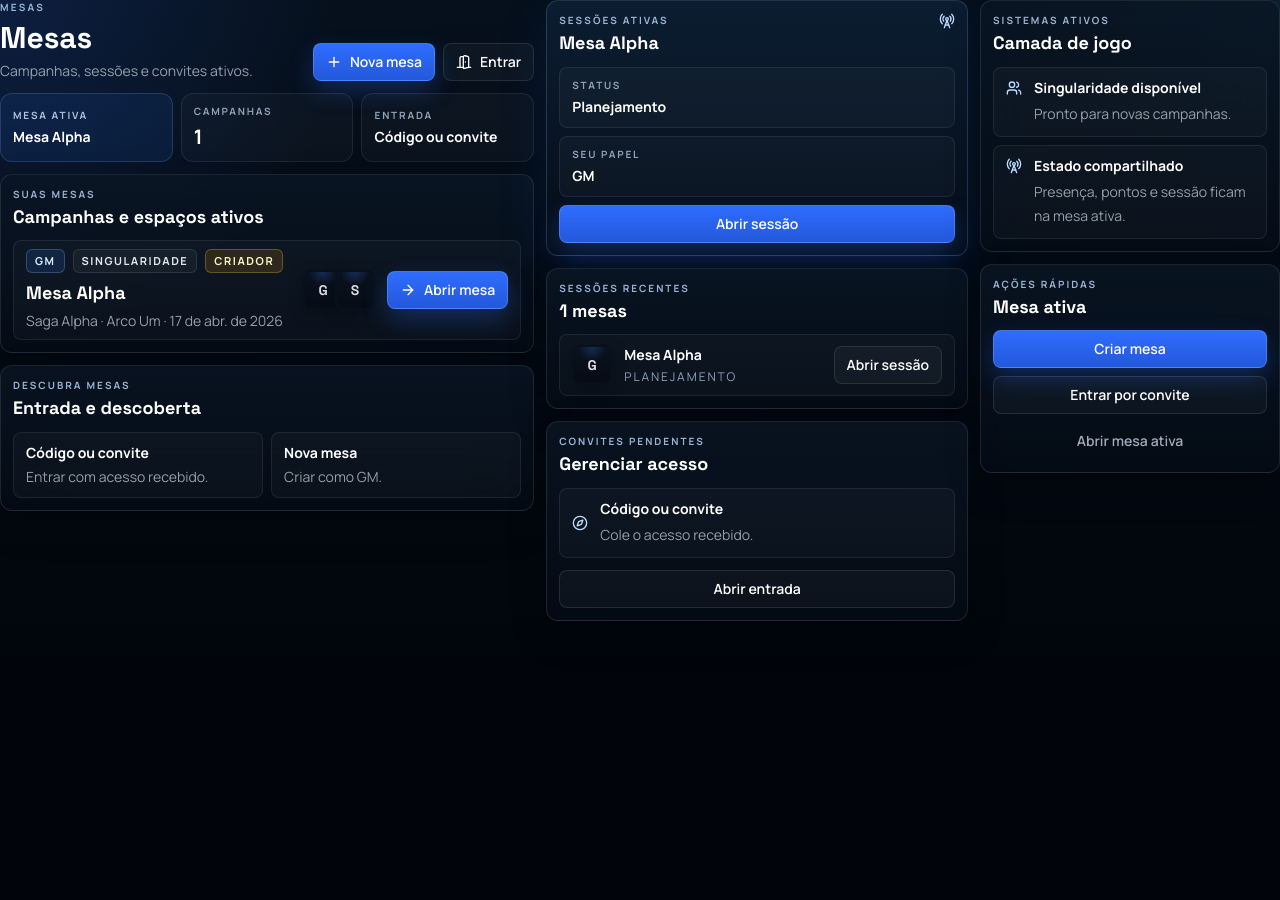
Test case: MesasPage V2 › opens create and join flows from the V2 command area
Click the button "Nova mesa" at (374, 62), box top-left (313, 42), bottom-right (435, 80)
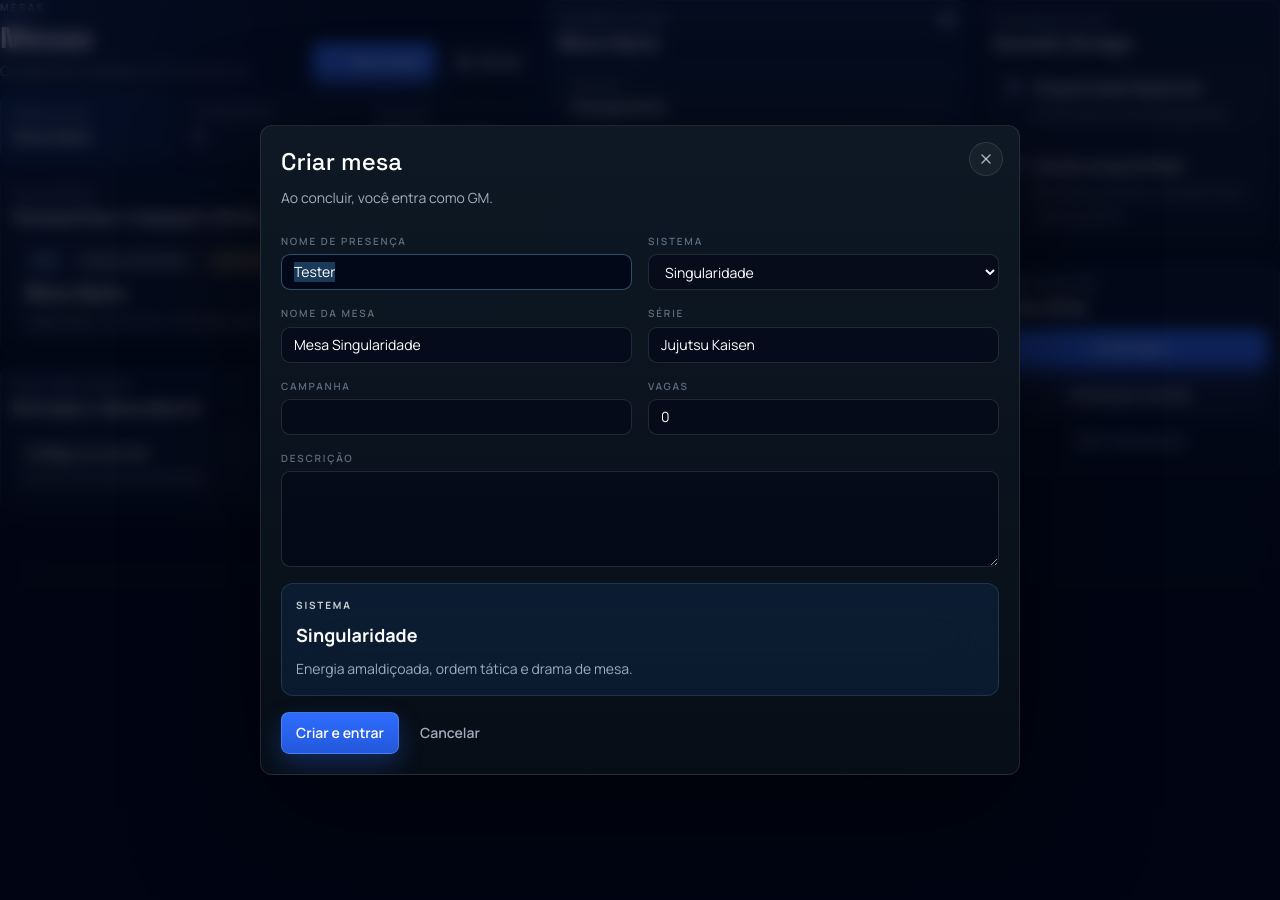
Now the heading "Criar mesa" is shown, box top-left (281, 146), bottom-right (402, 177)
Click the button named "Fechar" at (986, 159), box top-left (969, 142), bottom-right (1003, 176)
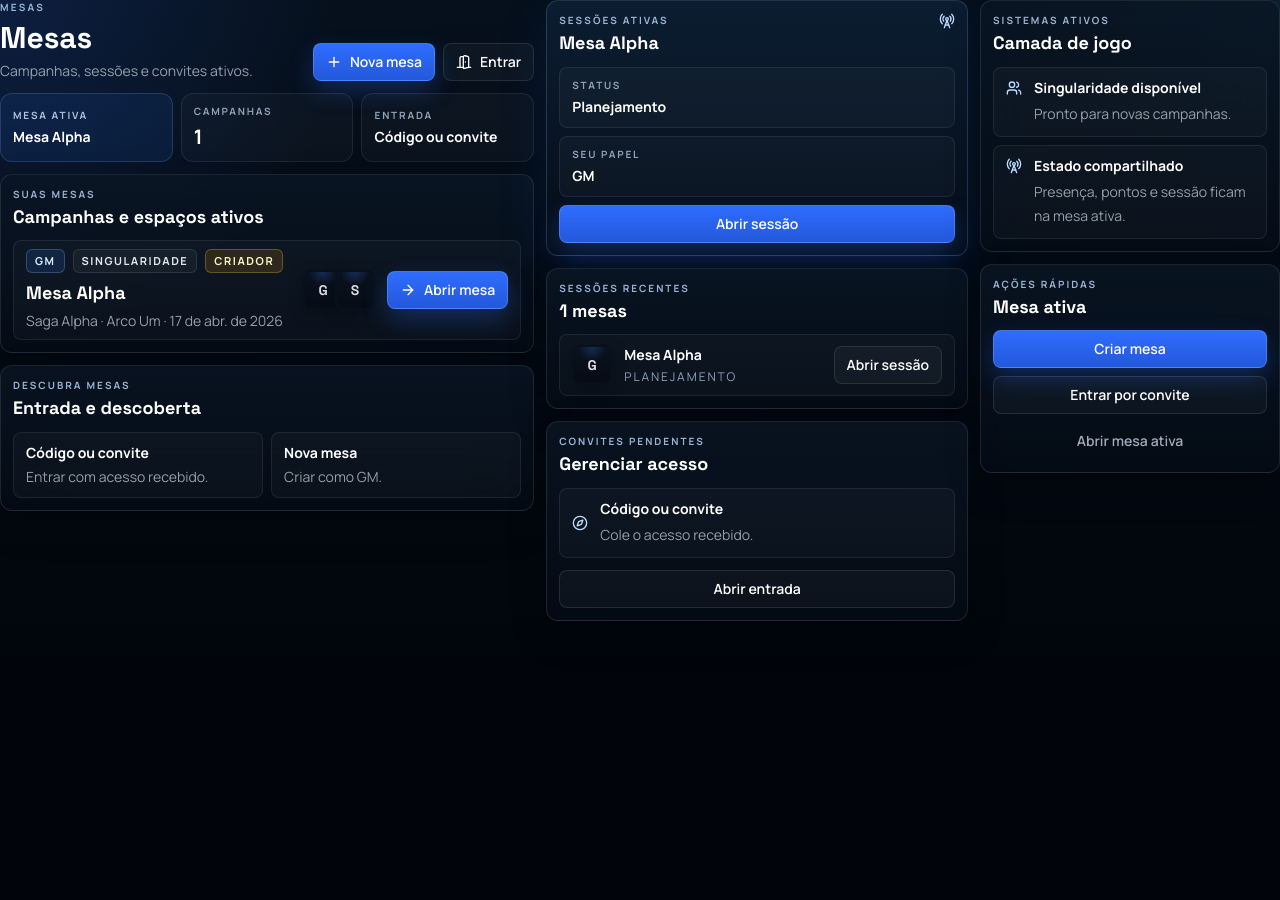
Click the button "Entrar" at (489, 62), box top-left (443, 42), bottom-right (534, 80)
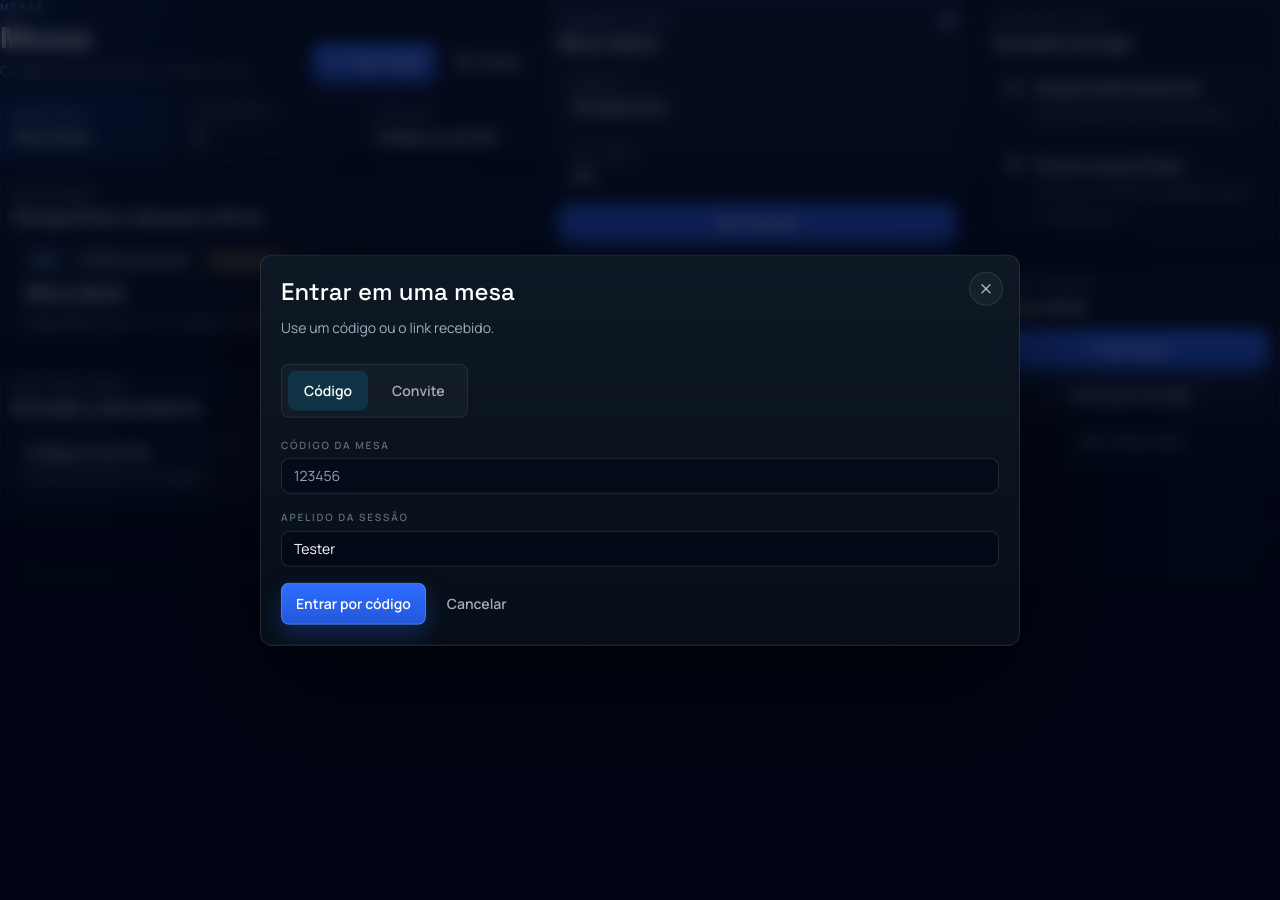
Now the heading "Entrar em uma mesa" is shown, box top-left (281, 276), bottom-right (515, 307)
Now the field labelled "Código da mesa" is shown, box top-left (281, 458), bottom-right (999, 494)
Click the tab "Convite" at (418, 391), box top-left (376, 371), bottom-right (460, 411)
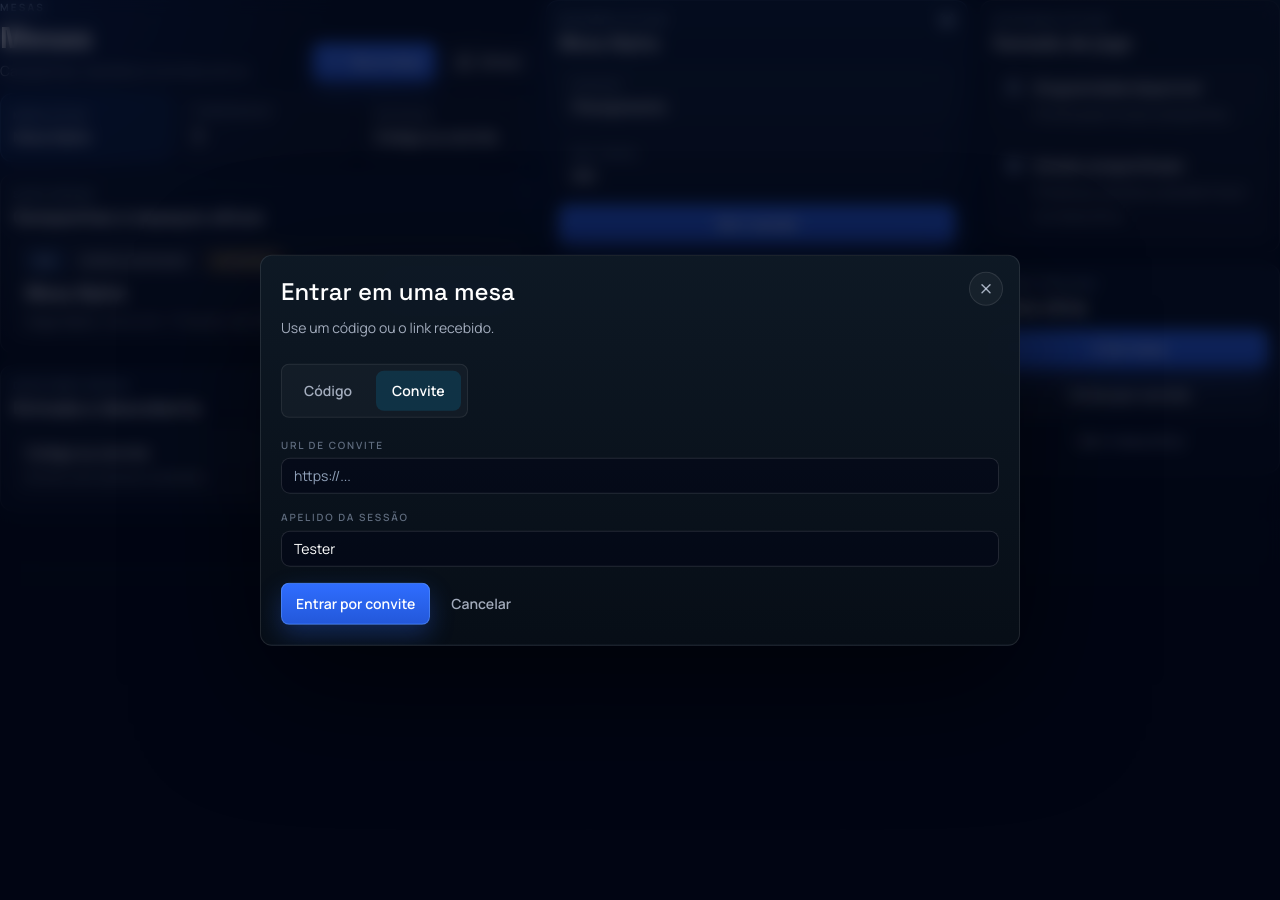
Now the field labelled "URL de convite" is shown, box top-left (281, 458), bottom-right (999, 494)
